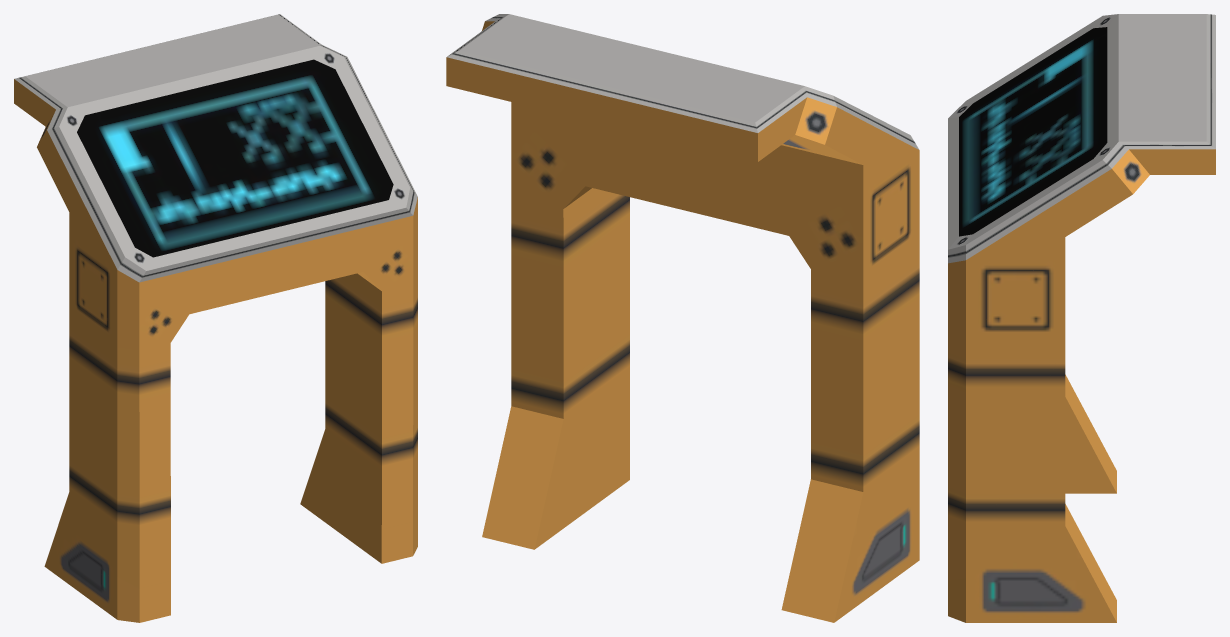
Rendered from cyber_SM_Prop_Console_01.gltf.
3 renders of one model, left to right at view 1: azimuth 30°, elevation 25°; view 2: azimuth 150°, elevation 25°; view 3: azimuth 270°, elevation 25°, orthographic. The views are drawn at different scales.
Visible parts, largest first — view 1: SM_Prop_Console_01; view 2: SM_Prop_Console_01; view 3: SM_Prop_Console_01.
Part boxes in pixels (x1,y1,x2,y2): SM_Prop_Console_01: (14, 14, 417, 622); SM_Prop_Console_01: (446, 14, 919, 622); SM_Prop_Console_01: (948, 14, 1215, 622).
Size of the model in its own units: 0.7177 by 1.03 by 0.5349.
Materials: 1 (1 with a texture image).
